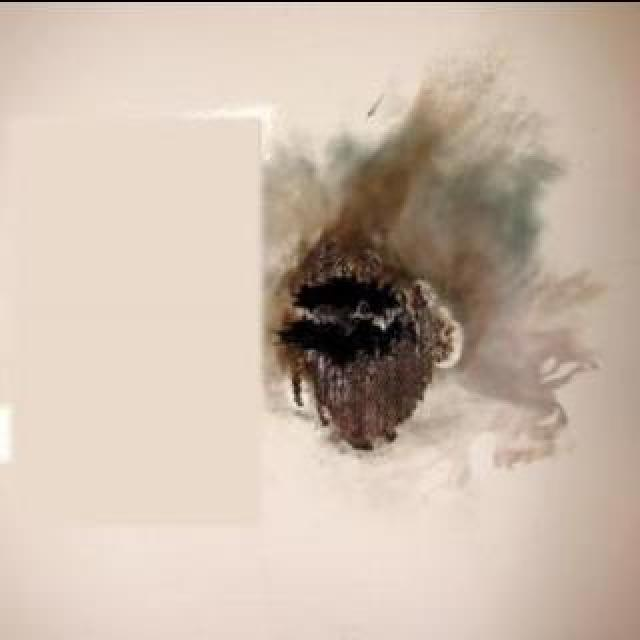crack: (273, 231, 455, 447)
